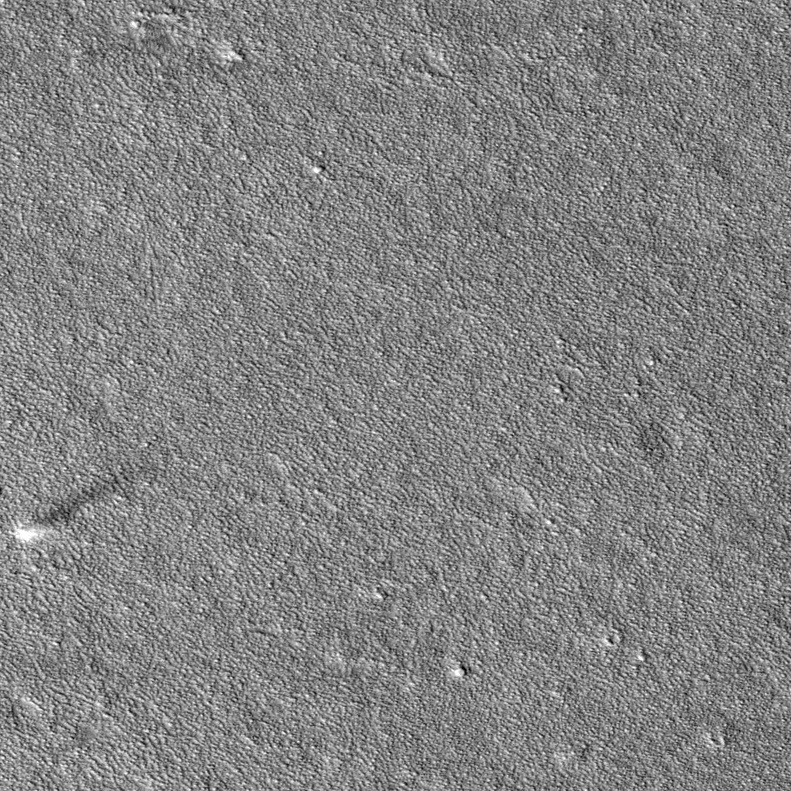dust_devil: (14, 473, 135, 544)
